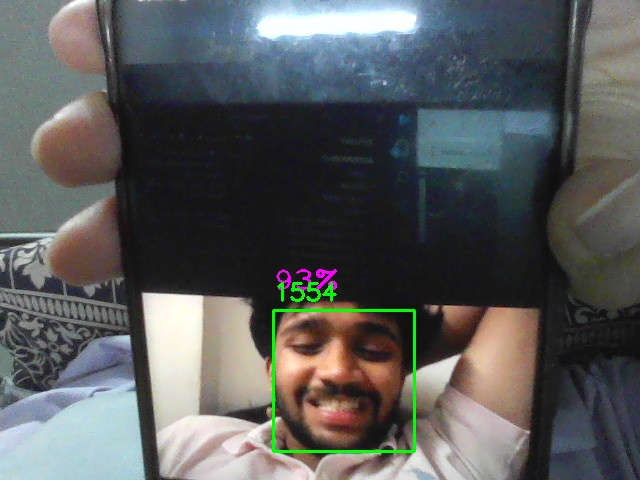fake: (273, 310, 415, 452)
